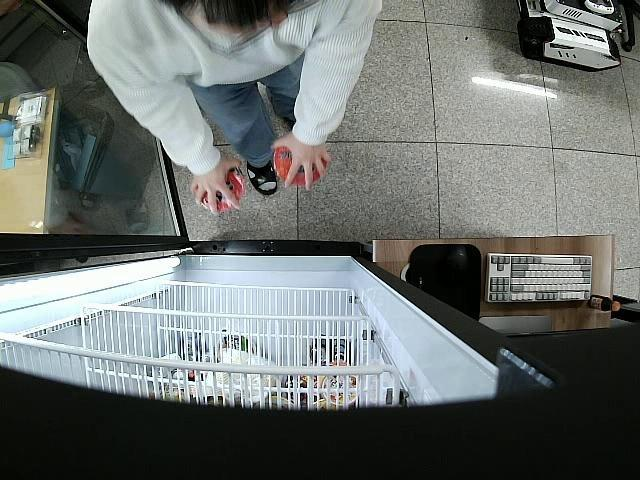01_ShinRamen_L: (196, 168, 245, 212), (275, 146, 327, 184)
